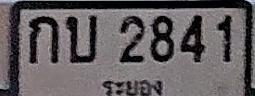1: (216, 15, 232, 62)
2: (120, 15, 145, 62)
4: (180, 14, 204, 62)
8: (150, 15, 173, 62)
A01: (28, 15, 59, 63)
A26: (66, 15, 98, 63)
RYG: (98, 76, 168, 96)
